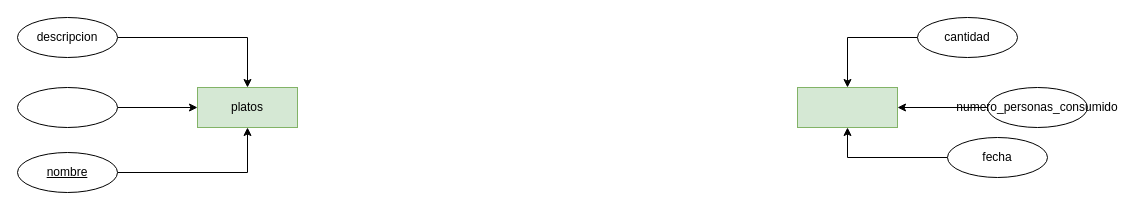
This 1135x210 diagram has some shape labels left out. Each missing label, with the box of its shape:
menu: (796, 86, 898, 128)
tipo (primero, segundo o postre: (16, 86, 118, 128)
